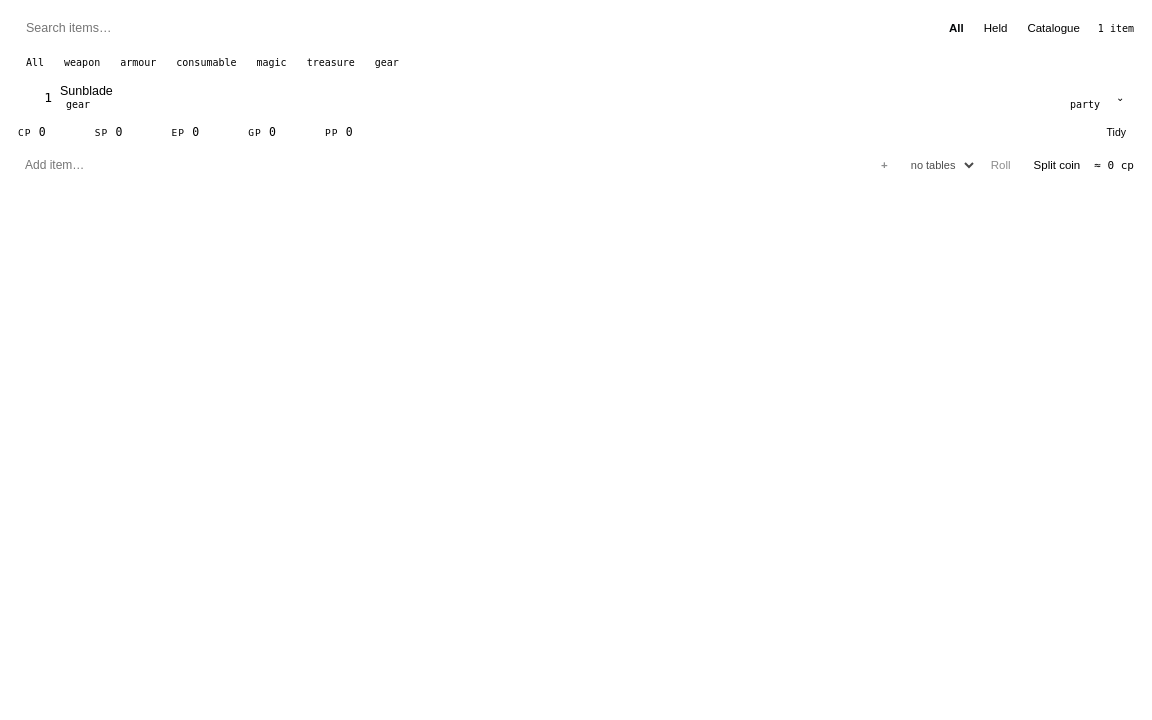
Test: Items weapon and armour detail › keeps the block shut for an item with none, and opens it on request
Click the text "Sunblade": (86, 91) top-left (60, 84), bottom-right (113, 98)
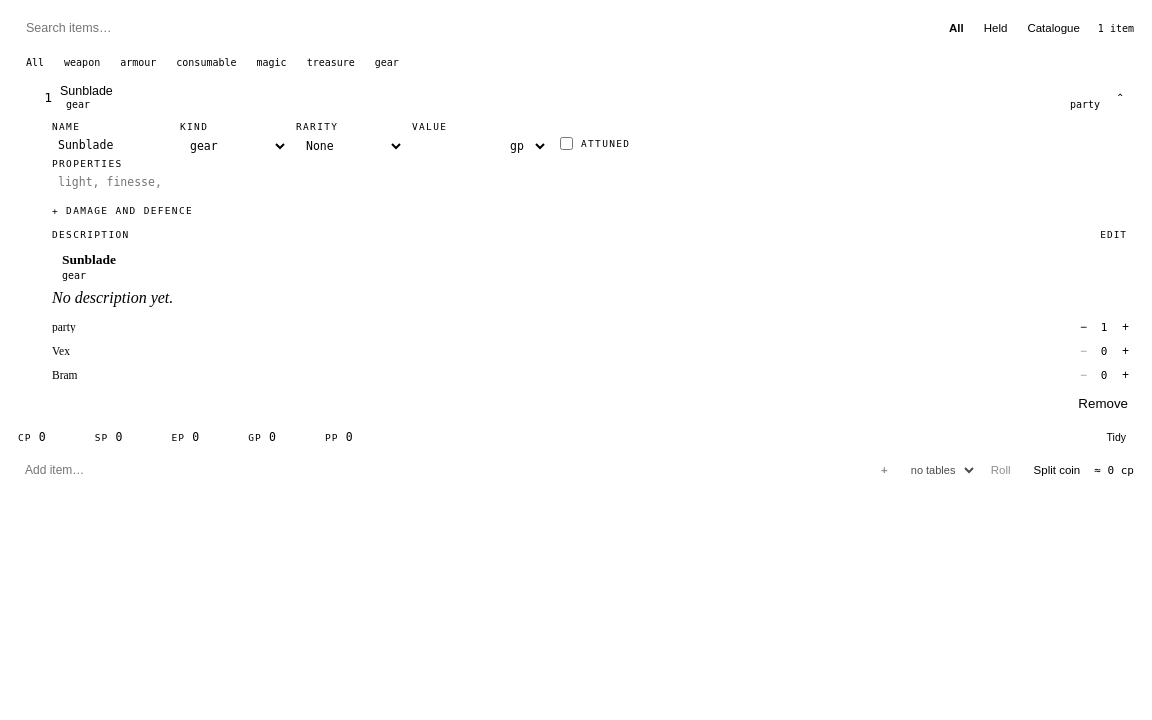
Expected: the text "+ Add damage" is not shown
Click the button "+ Damage and defence": (122, 210) top-left (52, 203), bottom-right (193, 218)
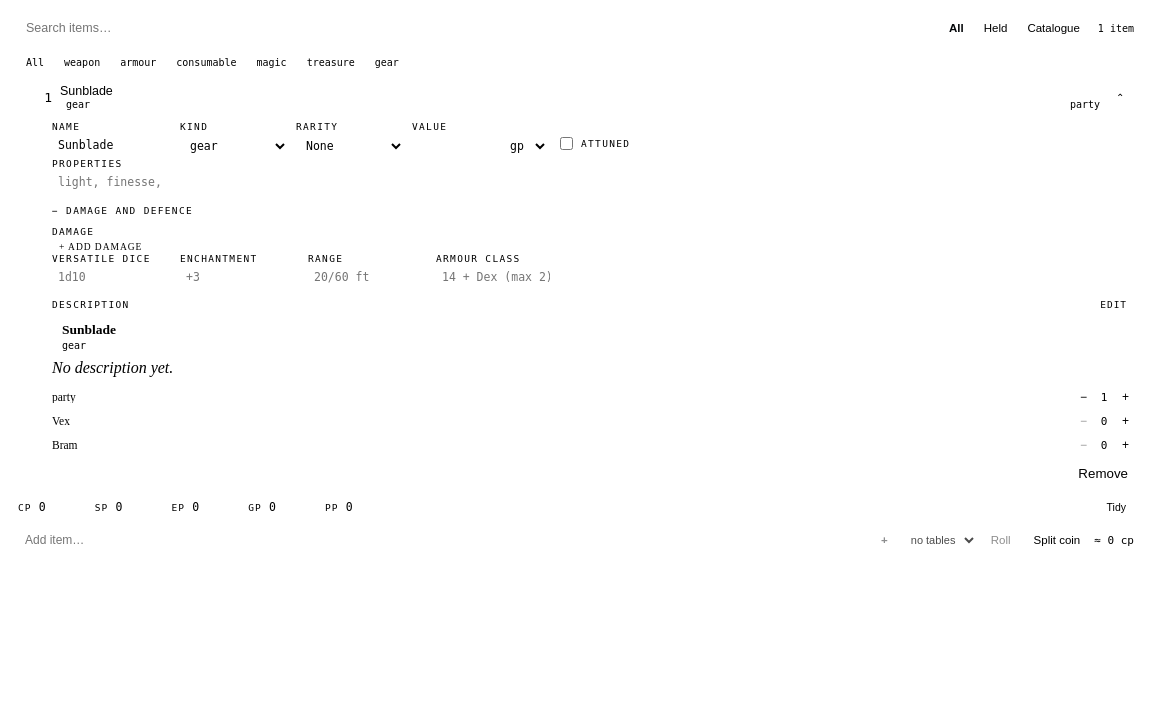
Expected: the button "+ Add damage" is shown, top-left (52, 241), bottom-right (149, 253)
